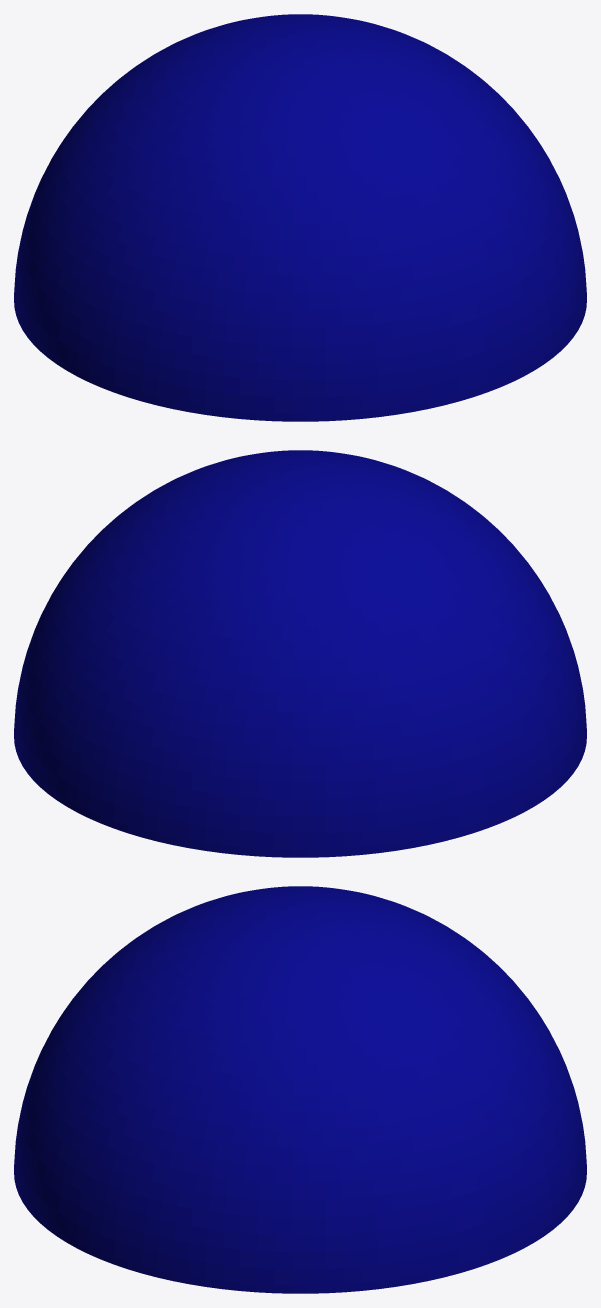
Rendered from dome.obj.
3 renders of one model, top to bottom at view 1: azimuth 30°, elevation 25°; view 2: azimuth 150°, elevation 25°; view 3: azimuth 270°, elevation 25°, orthographic.
Visible parts, largest first — view 1: Dome_b; view 2: Dome_b; view 3: Dome_b.
Part boxes in pixels (x1,y1,x2,y2): Dome_b: [14, 14, 586, 421]; Dome_b: [14, 450, 586, 857]; Dome_b: [14, 886, 586, 1293].
Size of the model in its own units: 18.6 by 9.31 by 18.61.
